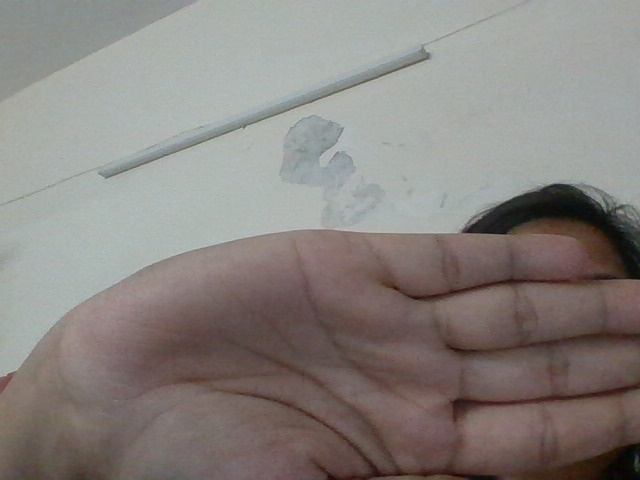rewind: (55, 221, 636, 475)
